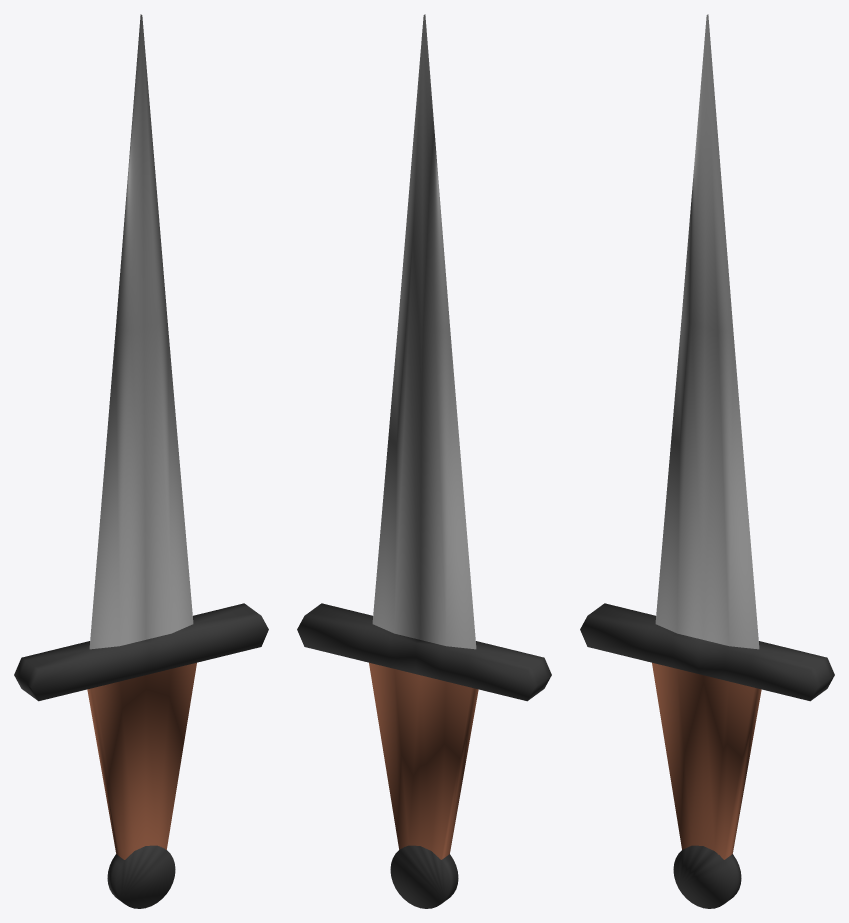
Rendered from IronDagger.fbx.
The picture shows the model from 3 angles, left to right: view 1: azimuth 30°, elevation 25°; view 2: azimuth 150°, elevation 25°; view 3: azimuth 330°, elevation 25°; orthographic projection.
Visible parts, largest first — view 1: IronDagger01_LOD0; view 2: IronDagger01_LOD0; view 3: IronDagger01_LOD0.
Boxes of the visible parts, x1,y1,x2,y2 form: IronDagger01_LOD0: (14,14,268,908); IronDagger01_LOD0: (297,14,551,908); IronDagger01_LOD0: (580,14,834,908).
Size of the model in its own units: 16 by 57.25 by 2.
